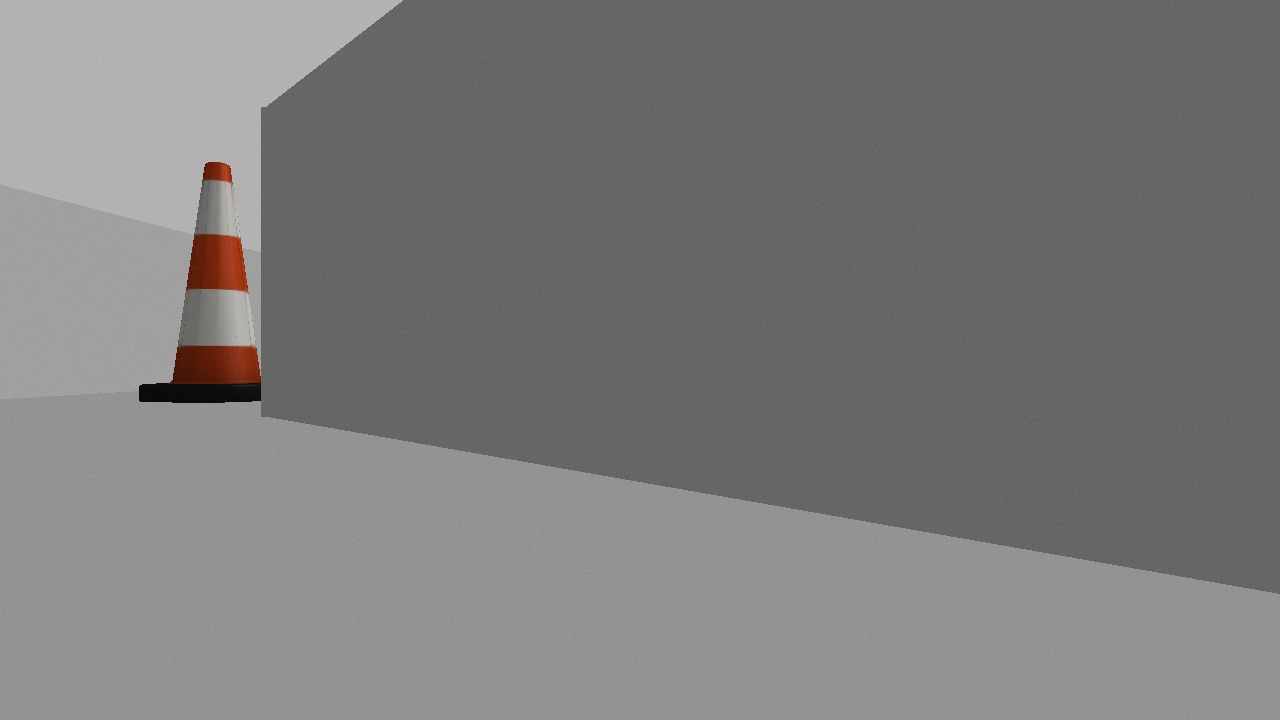barricade: (133, 150, 286, 408)
